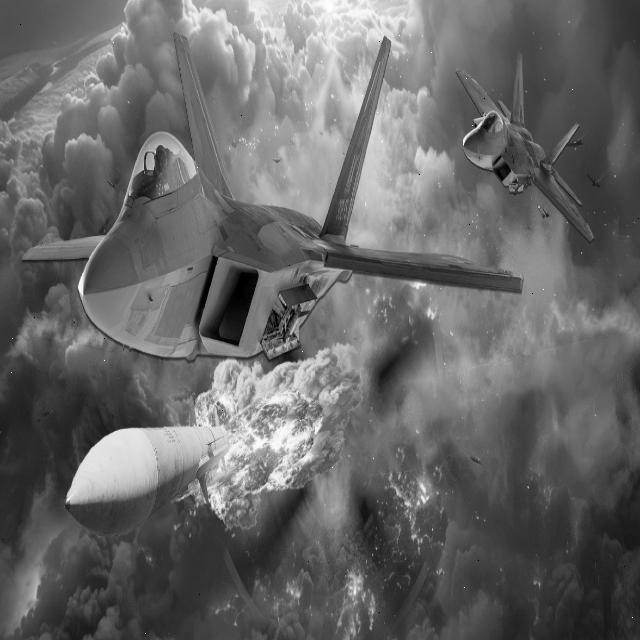F22: (11, 14, 544, 388), (451, 17, 613, 264)
